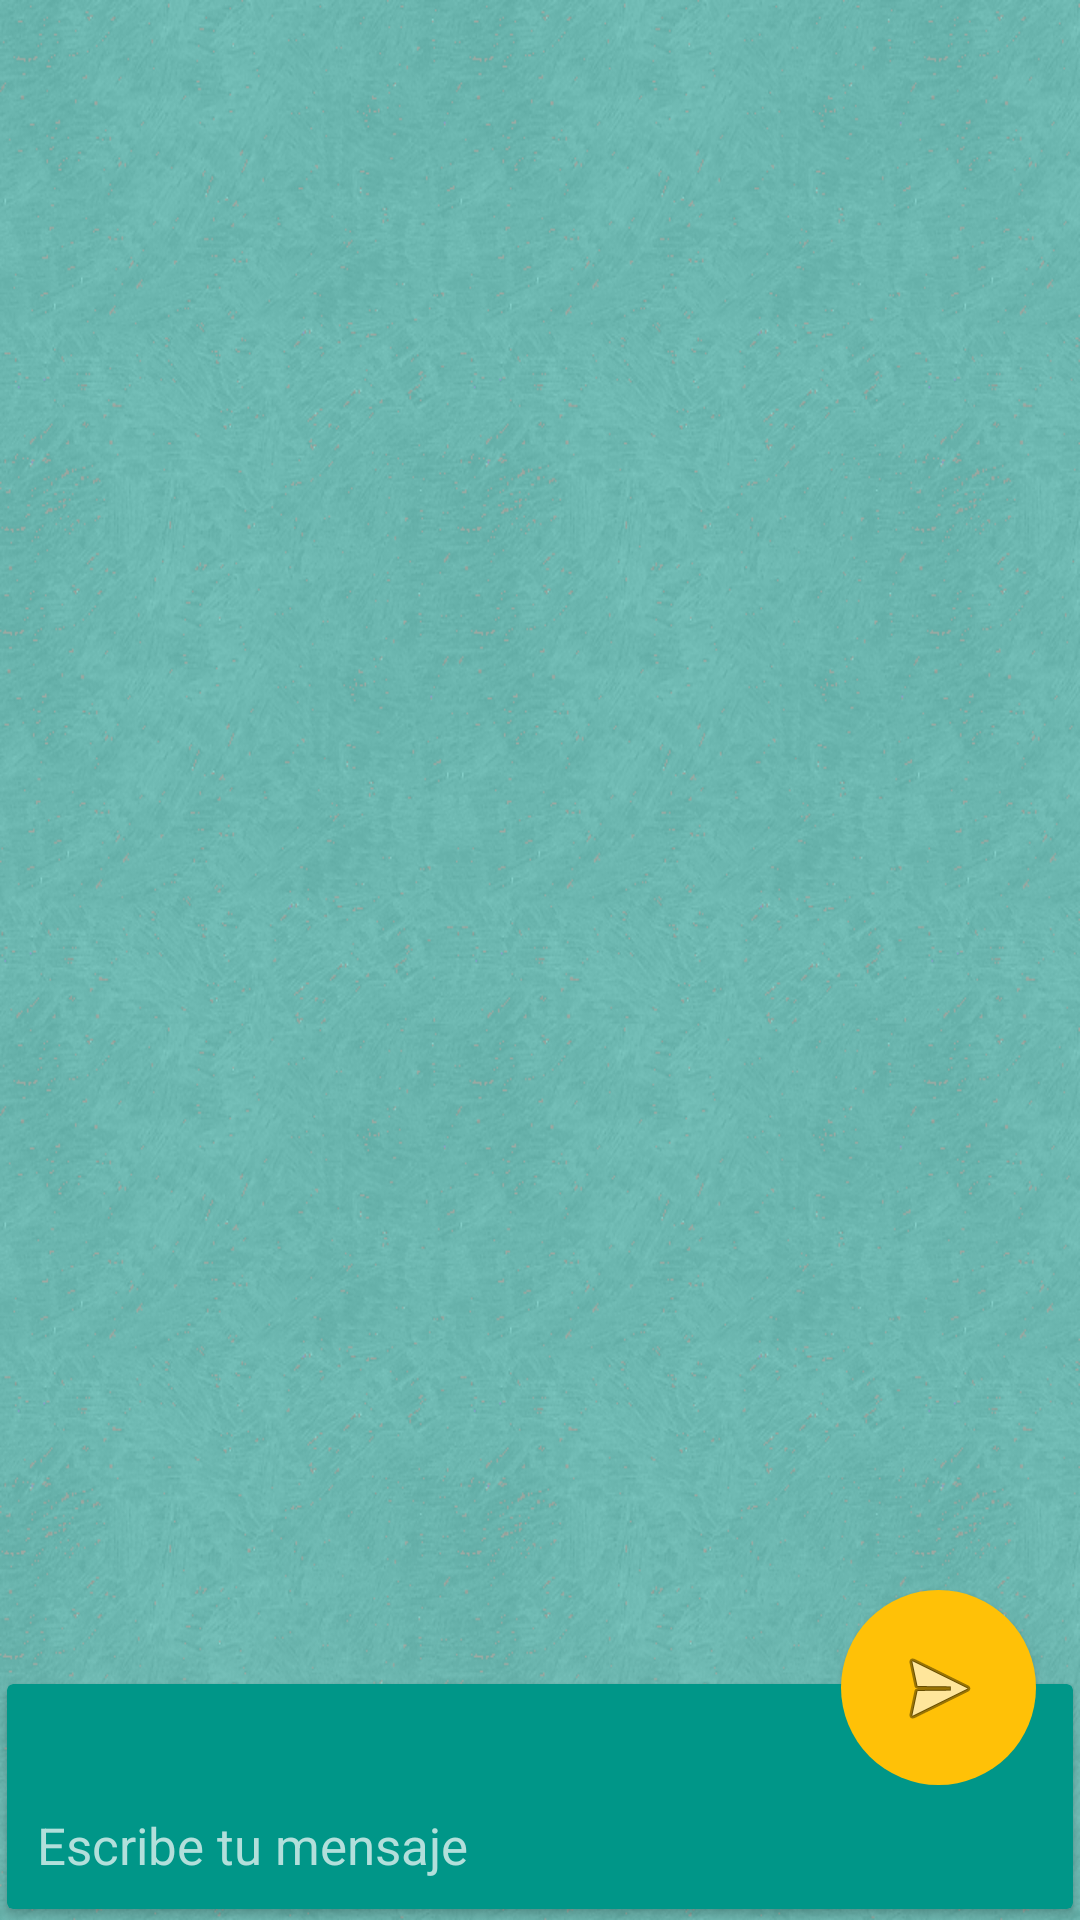

Screen size 1080 x 1920. Icon name, then its center in pixels as point (x, y):
send: point (938, 1687)
